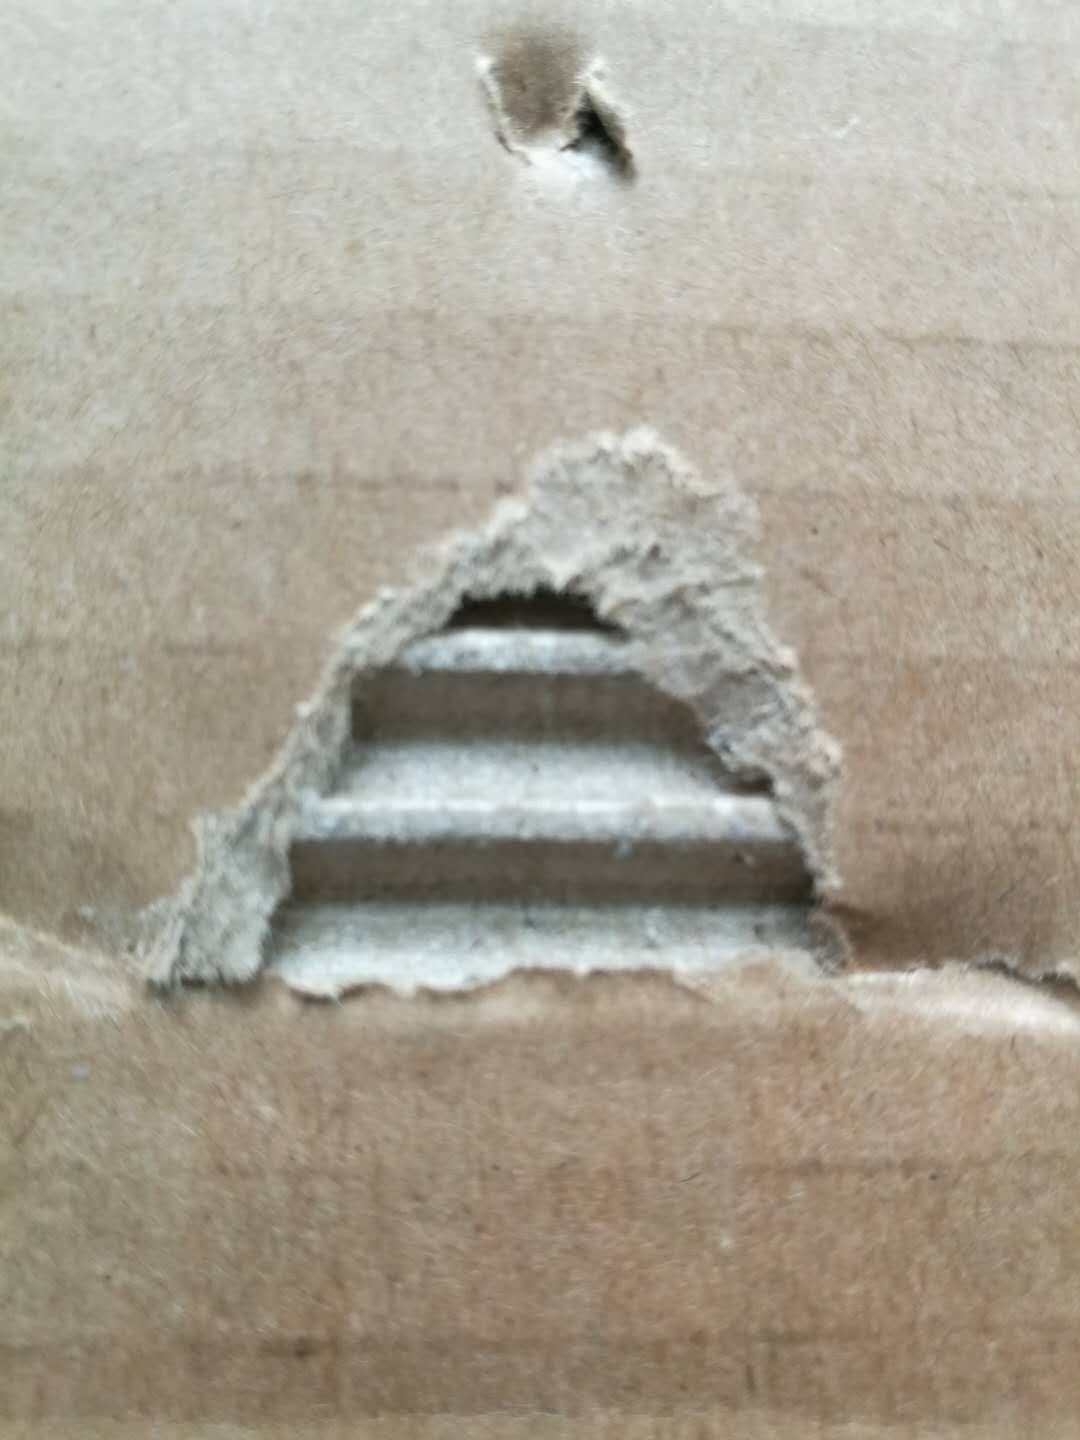defect: (3, 396, 1080, 1154), (437, 10, 685, 207)
